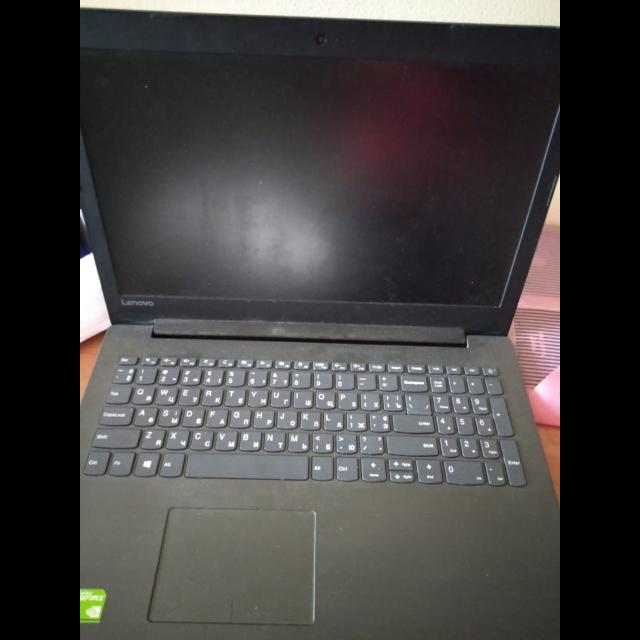Laptop: (81, 8, 559, 636)
